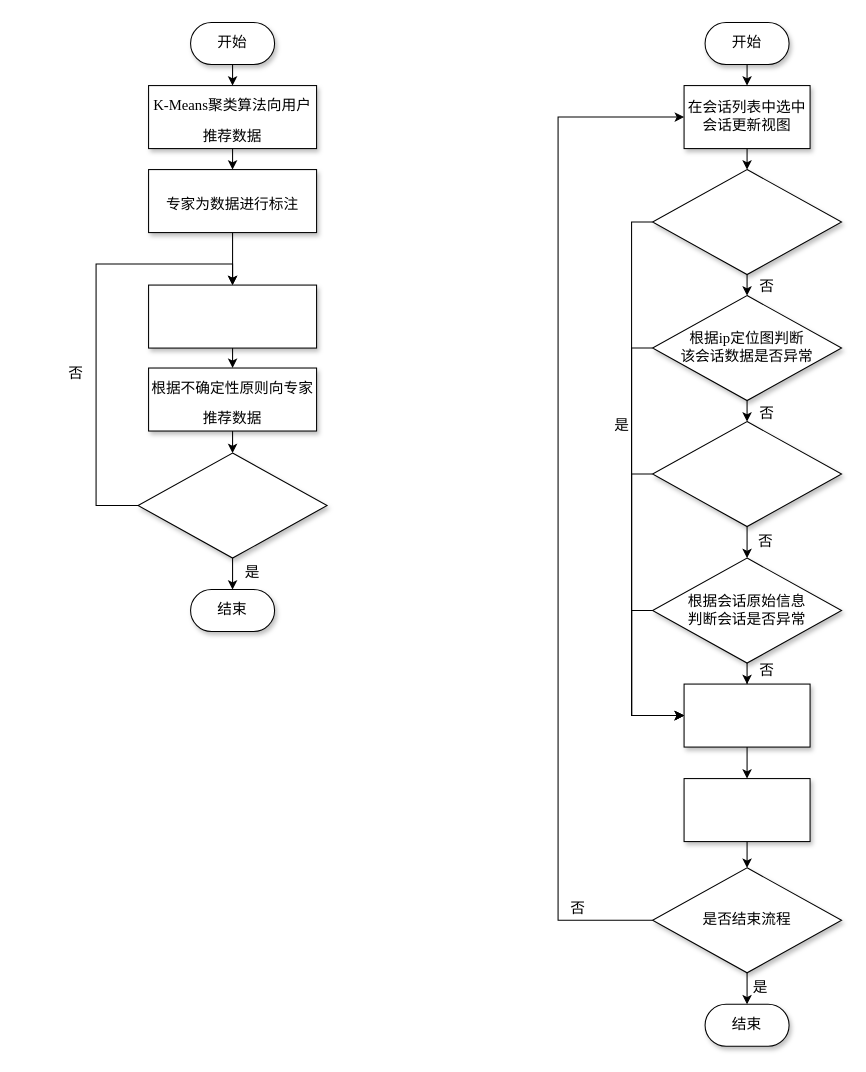
Image size: 866x1072. Some labels were removed from this diagram. The shapes that lost their labels are listed below. From the top down, each one's centre as x and y in pixels, then its label:
point 747,223: 根据会话信息统计图 判断该会话是否异常
point 233,317: 随机森林模型对数据进行预测分类
point 747,475: 根据时序流量图 判断该会话是否异常
point 233,506: 验证集判定准确率 是否达到阈值
point 747,716: 标记完成 提交数据进行迭代
point 747,811: 更新散点图
